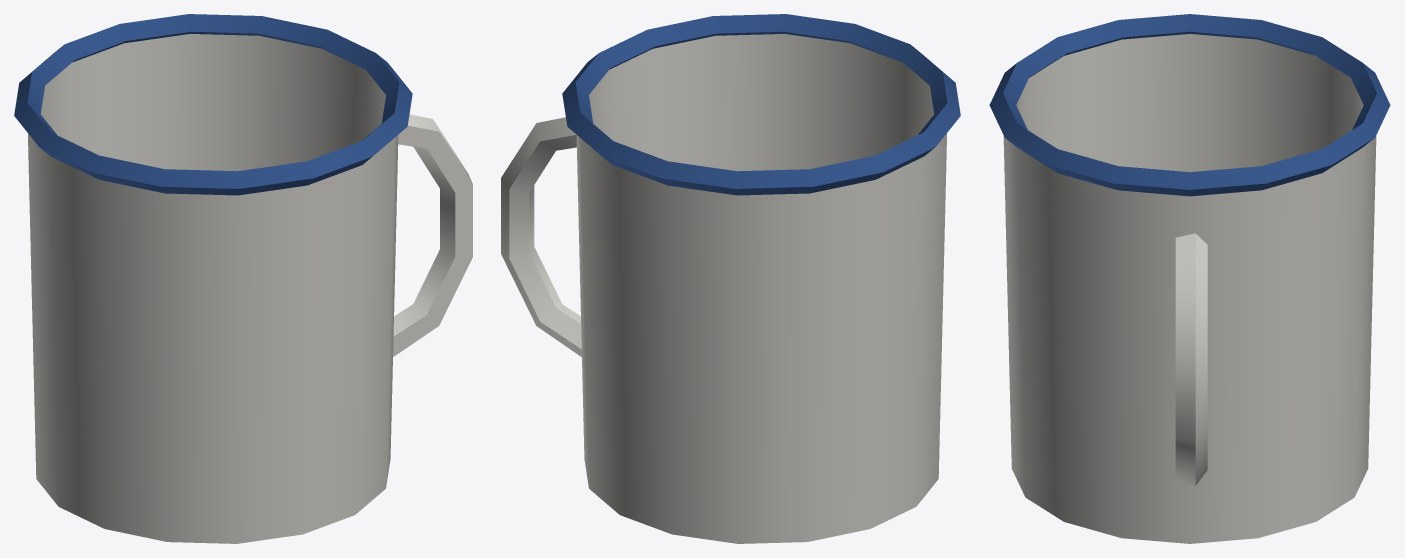
Rendered from tpl_cucina_mug.glb.
The picture shows the model from 3 angles, left to right: view 1: azimuth 30°, elevation 25°; view 2: azimuth 150°, elevation 25°; view 3: azimuth 270°, elevation 25°; orthographic projection.
Visible parts, largest first — view 1: tpl_cucina_mug; view 2: tpl_cucina_mug; view 3: tpl_cucina_mug.
Boxes of the visible parts, x1=… form: tpl_cucina_mug: x1=14, y1=14, x2=472, y2=543; tpl_cucina_mug: x1=501, y1=14, x2=960, y2=543; tpl_cucina_mug: x1=989, y1=14, x2=1390, y2=543.
Bounding box in the file's own units: 0.1116 × 0.093 × 0.09.
